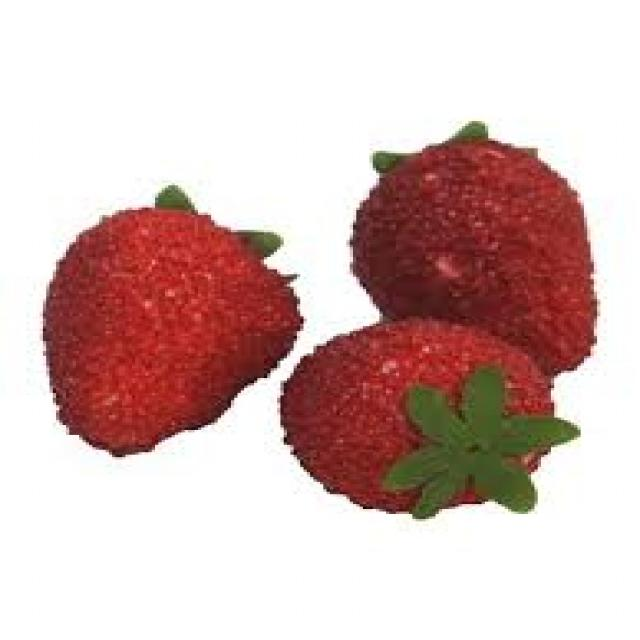organic waste: (36, 183, 300, 455), (350, 116, 594, 378), (280, 311, 551, 514)
